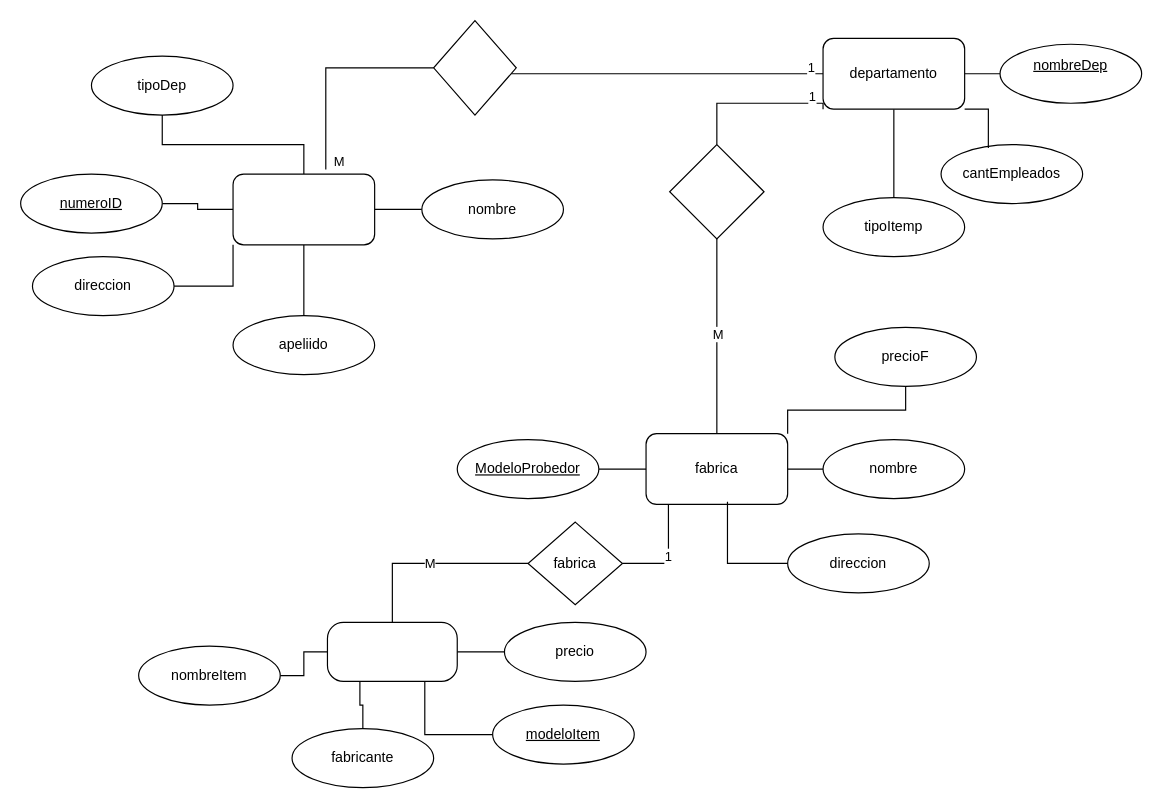
The diagram is 1162 pixels wide and 808 high, and some of its shapes have lost their labels. Here are the shapes that lost their labels. From the top down, the centre of each, then its label:
point (474, 67): trabaja
point (303, 209): empledo
point (716, 191): vende
point (391, 651): item
